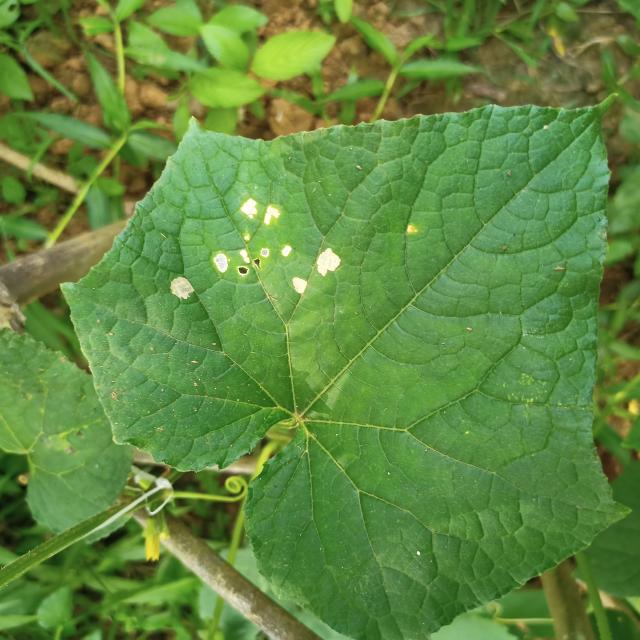disease_cucumber: (170, 199, 342, 303)
